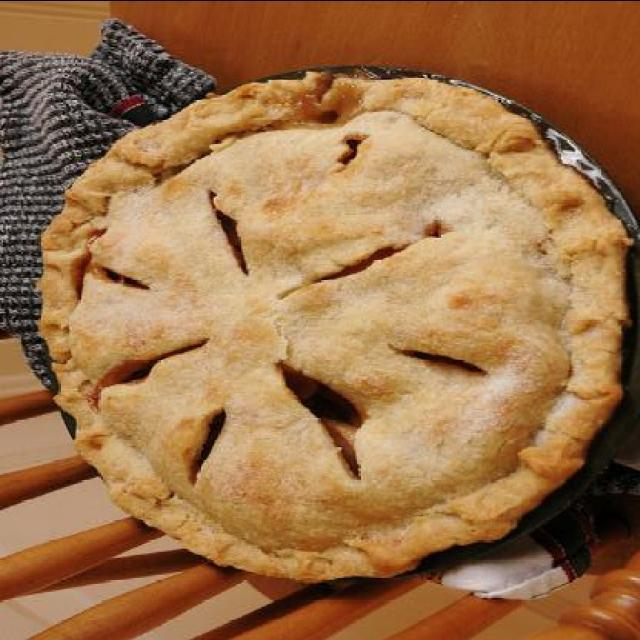Apple: (50, 80, 619, 588)
